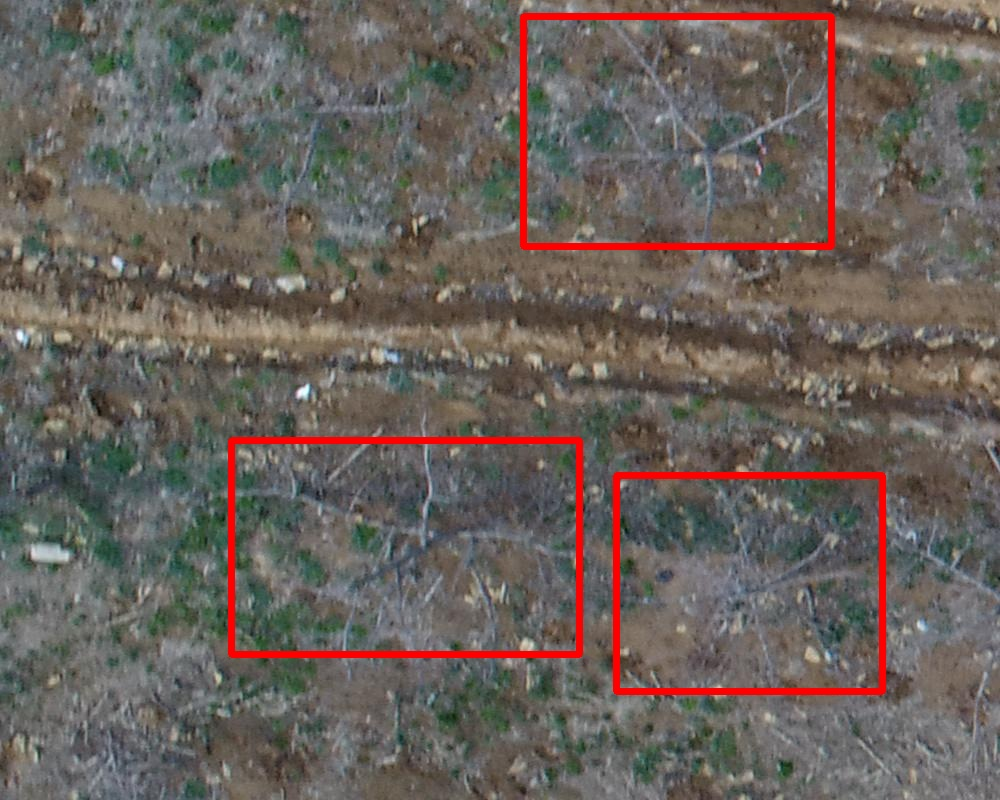apple: (231, 440, 579, 654), (523, 16, 831, 246), (616, 475, 882, 691)
